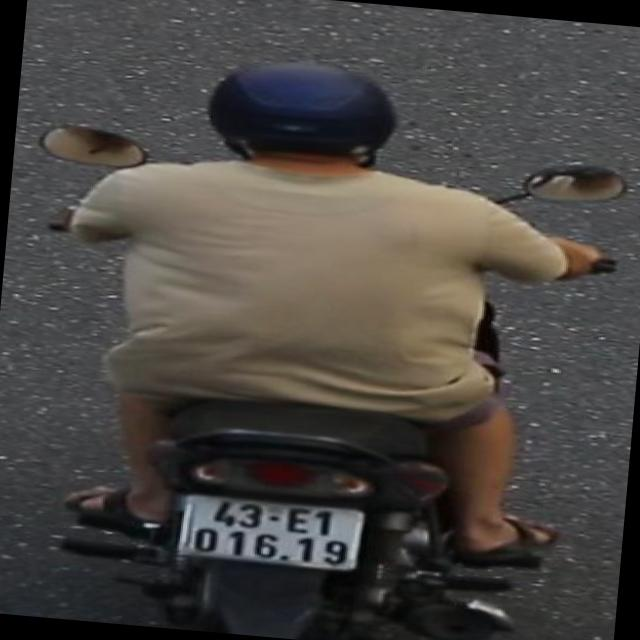LP: (168, 486, 375, 580)
helmet: (192, 50, 411, 190)
